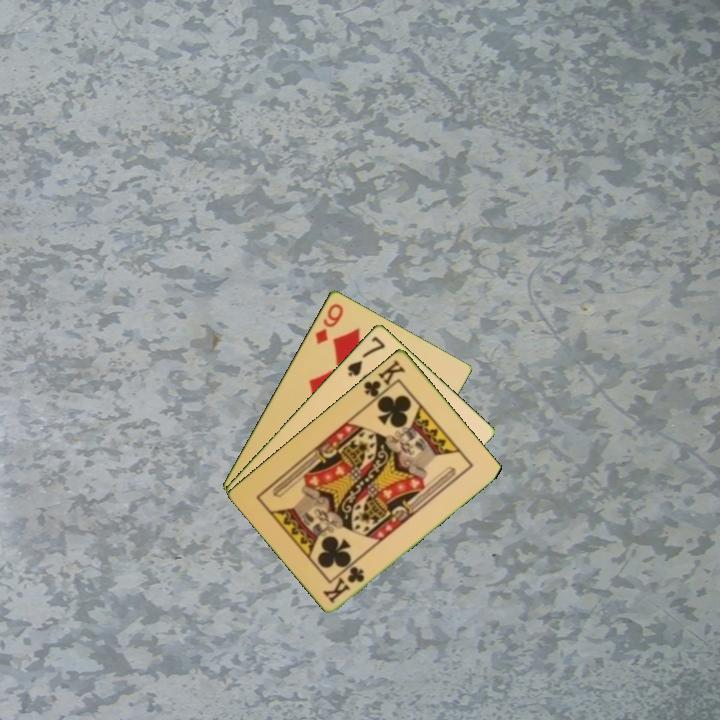7s: (344, 332, 388, 379)
9d: (311, 299, 346, 347)
Kc: (360, 356, 408, 405), (320, 562, 368, 606)
